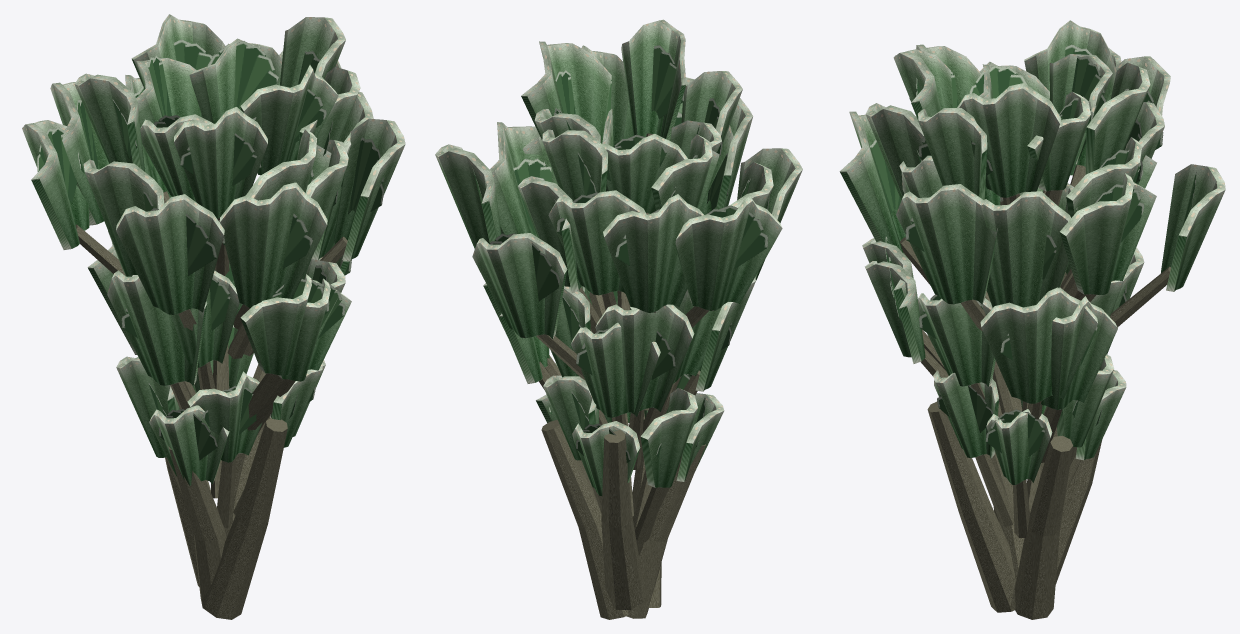
Rendered from kaktus_karang_taman.glb.
3 renders of one model, left to right at view 1: azimuth 30°, elevation 25°; view 2: azimuth 150°, elevation 25°; view 3: azimuth 270°, elevation 25°, orthographic. The views are drawn at different scales.
Parts seen in each view (by area): view 1: Kipas_Kaktus_Karang_Berombak, Batang_Kaktus_Karang, Jambul_Kaktus_Karang; view 2: Kipas_Kaktus_Karang_Berombak, Batang_Kaktus_Karang, Jambul_Kaktus_Karang; view 3: Kipas_Kaktus_Karang_Berombak, Batang_Kaktus_Karang, Jambul_Kaktus_Karang.
Part boxes in pixels (bbox=[...]): Kipas_Kaktus_Karang_Berombak: bbox=[22, 14, 405, 485]; Batang_Kaktus_Karang: bbox=[75, 191, 347, 619]; Jambul_Kaktus_Karang: bbox=[37, 39, 383, 460]; Kipas_Kaktus_Karang_Berombak: bbox=[435, 19, 802, 495]; Batang_Kaktus_Karang: bbox=[536, 133, 708, 619]; Jambul_Kaktus_Karang: bbox=[472, 45, 769, 462]; Kipas_Kaktus_Karang_Berombak: bbox=[839, 20, 1225, 484]; Batang_Kaktus_Karang: bbox=[900, 164, 1170, 619]; Jambul_Kaktus_Karang: bbox=[870, 44, 1196, 456].
Size of the model in its own units: 1.13 by 1.74 by 1.09.
Materials: 3 (3 with a texture image).
